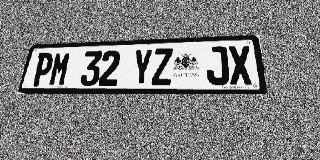2: (98, 50, 121, 86)
3: (79, 51, 103, 86)
J: (206, 46, 229, 85)
M: (48, 52, 72, 86)
P: (30, 52, 55, 86)
X: (228, 45, 253, 85)
Y: (131, 49, 153, 86)
Z: (151, 48, 173, 85)
